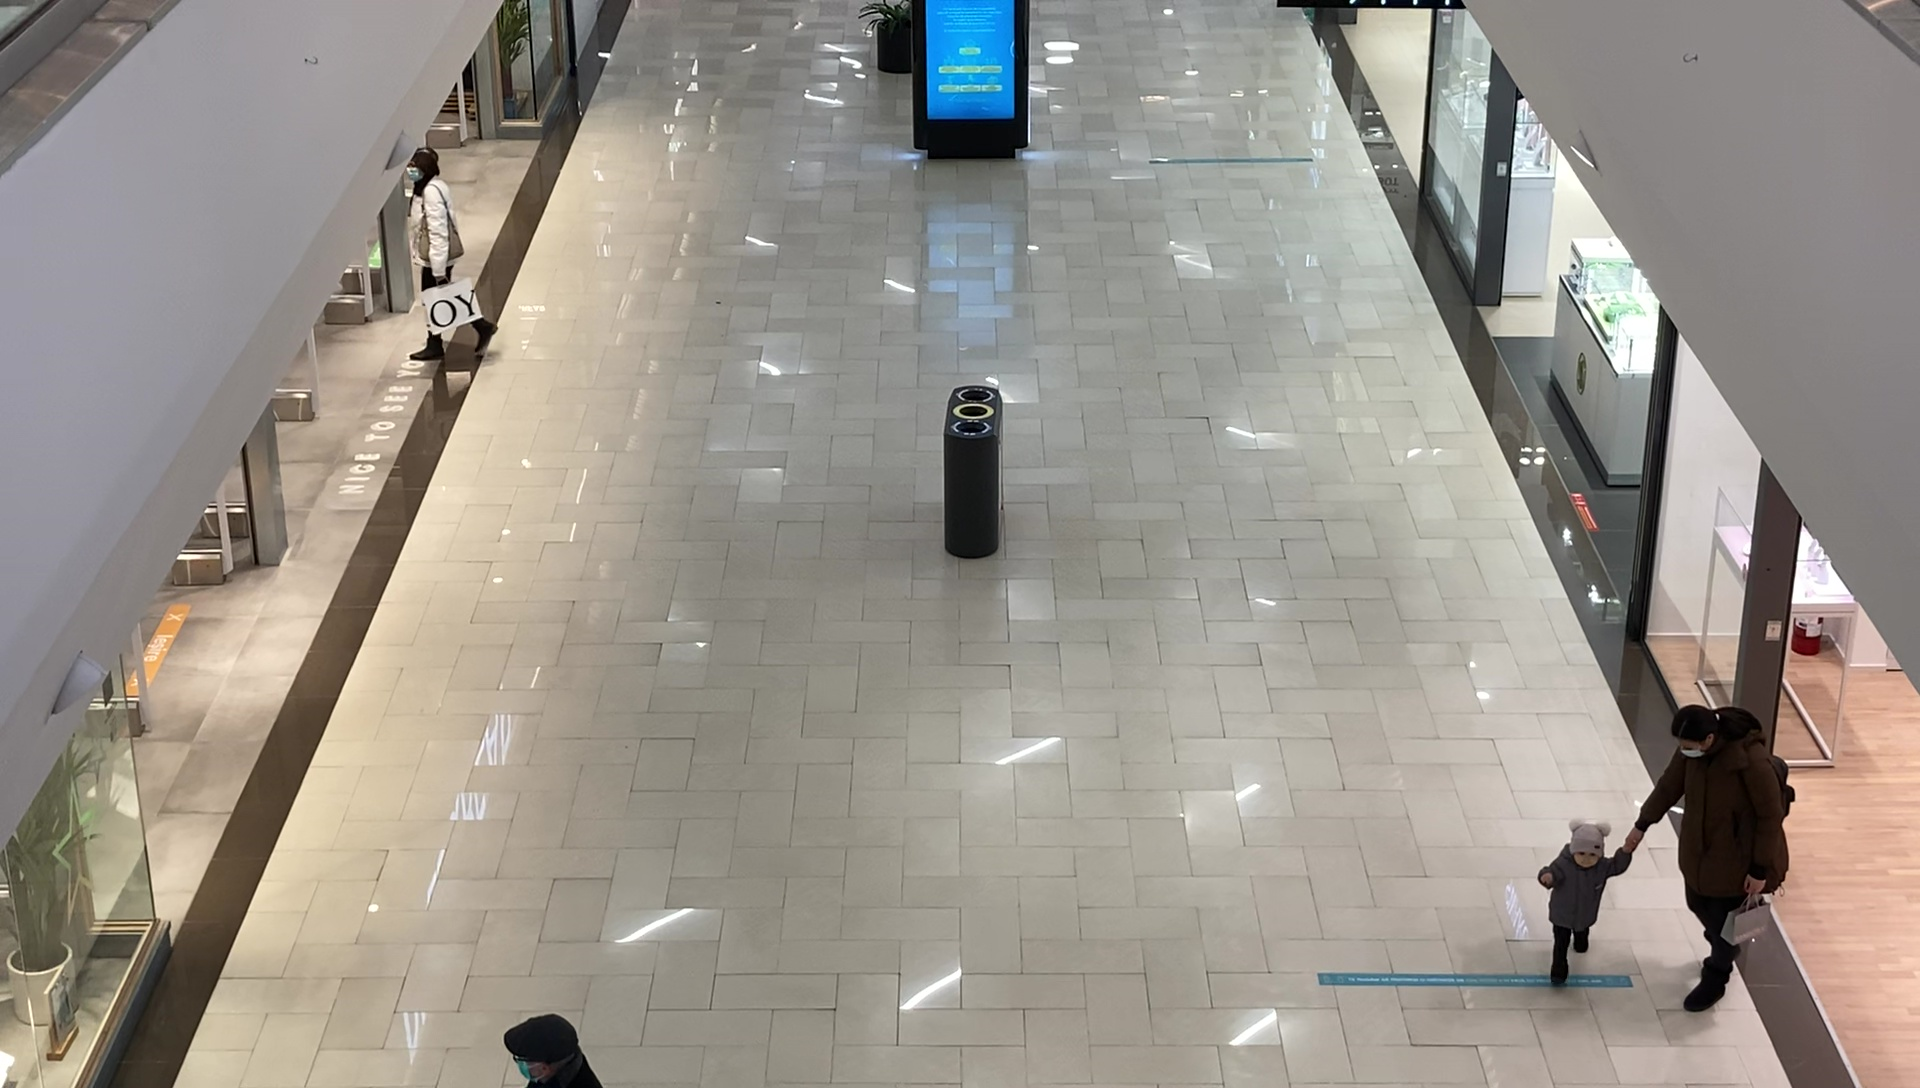person: (1628, 705, 1796, 1011), (397, 148, 501, 361), (1536, 819, 1633, 985)
